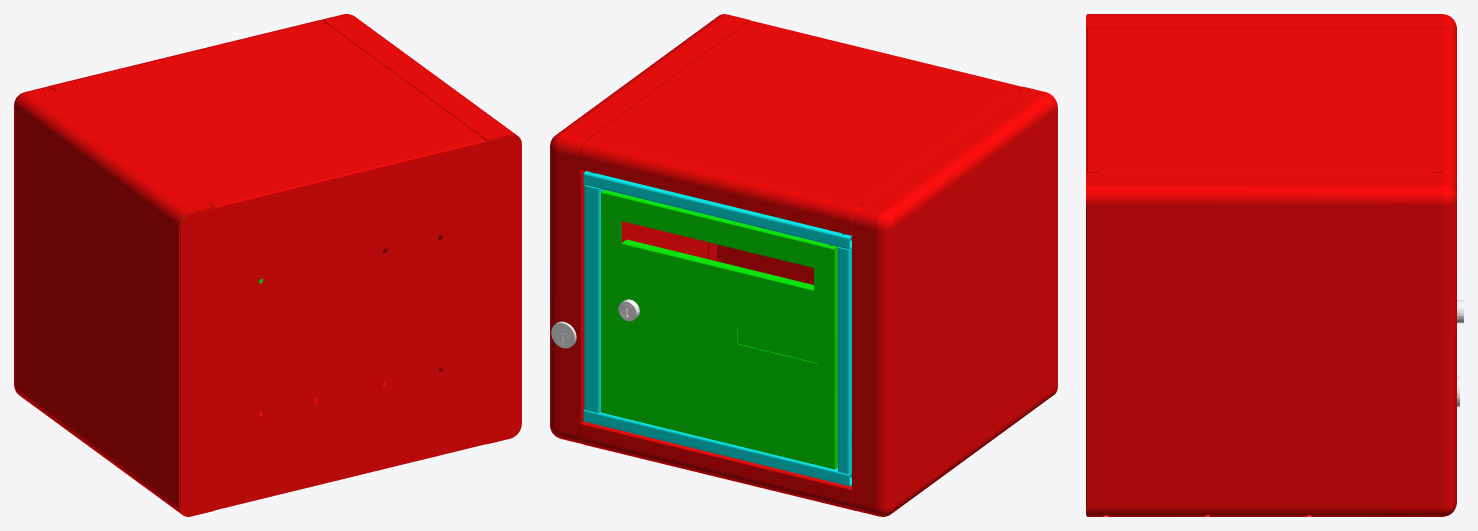
File: discretion_A1.glb
3 views of the same model, side by side, from view 1: azimuth 30°, elevation 25°; view 2: azimuth 150°, elevation 25°; view 3: azimuth 270°, elevation 25° (orthographic). The views are drawn at different scales.
Parts seen in each view (by area): view 1: TOLE FOND coffre arrondie A1, TOLE DROITE coffre arrondie 1, TOLE DESSUS coffre arrondie A, TOLE GAUCHE coffre arrondie 1_Défaut<Brut d''usinage>; view 2: TOLE DROITE coffre arrondie 1, TOLE DESSUS coffre arrondie A, façade discrétion, TOLE GAUCHE coffre arrondie 1_Défaut<Brut d''usinage>, TOLE DESSUS coffre arrondie A_node, TUBE DESSUS CADRE A, TOLE PLIEE CROCHET CADRE 1, TUBE DESSOUS CADRE A, TUBE COTEE CADRE 1_node, TOLE FOND coffre arrondie A1, porte étiquette discrétion; view 3: TOLE GAUCHE coffre arrondie 1_Défaut<Brut d''usinage>, TOLE DESSUS coffre arrondie A, TOLE DROITE coffre arrondie 1, TOLE FOND coffre arrondie A1.
Boxes of the visible parts, left/top/right/bottom form: TOLE FOND coffre arrondie A1: left=180, top=135, right=521, bottom=516; TOLE DROITE coffre arrondie 1: left=14, top=86, right=213, bottom=516; TOLE DESSUS coffre arrondie A: left=47, top=20, right=485, bottom=207; TOLE GAUCHE coffre arrondie 1_Défaut<Brut d''usinage>: left=314, top=14, right=521, bottom=444; TOLE DROITE coffre arrondie 1: left=852, top=86, right=1057, bottom=516; TOLE DESSUS coffre arrondie A: left=580, top=20, right=1021, bottom=235; façade discrétion: left=601, top=190, right=837, bottom=469; TOLE GAUCHE coffre arrondie 1_Défaut<Brut d''usinage>: left=550, top=14, right=749, bottom=444; TOLE DESSUS coffre arrondie A_node: left=580, top=343, right=855, bottom=510; TUBE DESSUS CADRE A: left=585, top=171, right=851, bottom=249; TOLE PLIEE CROCHET CADRE 1: left=583, top=171, right=603, bottom=421; TUBE DESSOUS CADRE A: left=585, top=410, right=851, bottom=486; TUBE COTEE CADRE 1_node: left=838, top=247, right=851, bottom=473; TOLE FOND coffre arrondie A1: left=708, top=20, right=860, bottom=284; porte étiquette discrétion: left=738, top=326, right=818, bottom=363; TOLE GAUCHE coffre arrondie 1_Défaut<Brut d''usinage>: left=1087, top=172, right=1456, bottom=516; TOLE DESSUS coffre arrondie A: left=1087, top=28, right=1456, bottom=183; TOLE DROITE coffre arrondie 1: left=1087, top=14, right=1456, bottom=38; TOLE FOND coffre arrondie A1: left=1086, top=15, right=1086, bottom=515.
Size of the model in its own units: 424 by 359 by 372.
